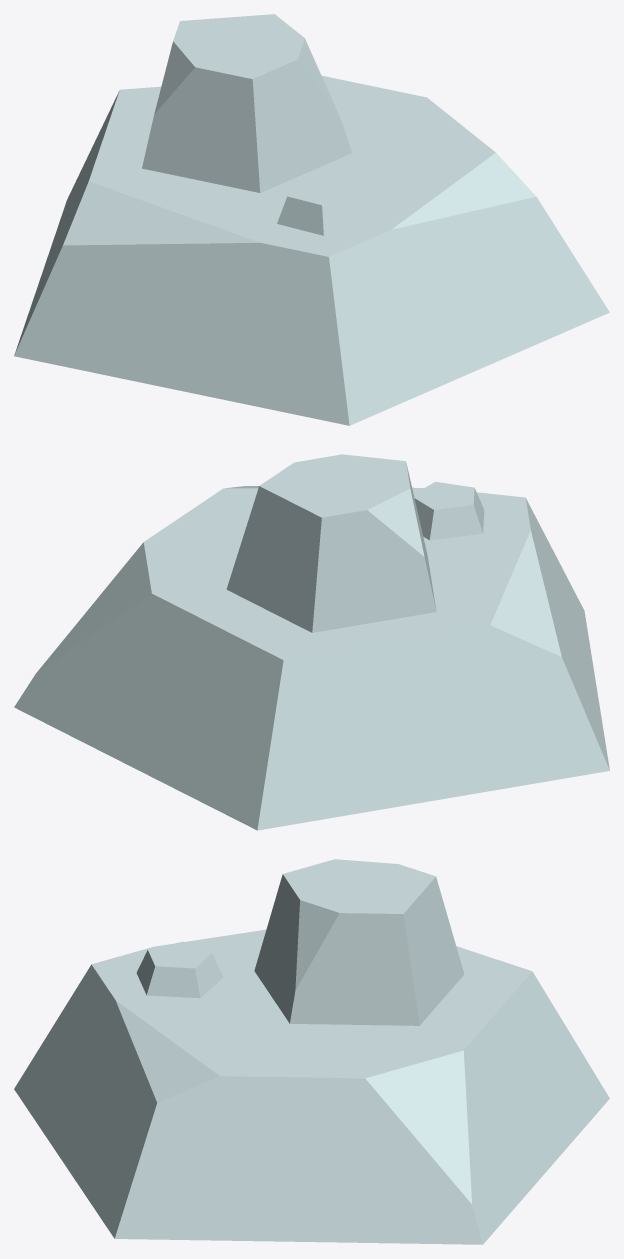
The model's file is stone_smallTop2.glb.
3 views of the same model, one above another, from view 1: azimuth 30°, elevation 25°; view 2: azimuth 150°, elevation 25°; view 3: azimuth 270°, elevation 25° (orthographic). The views are drawn at different scales.
Visible parts, largest first — view 1: stone_smallTop2; view 2: stone_smallTop2; view 3: stone_smallTop2.
Boxes of the visible parts, box(x1,y1,x2,y2) form: stone_smallTop2: box(14, 14, 609, 425); stone_smallTop2: box(14, 454, 609, 830); stone_smallTop2: box(14, 859, 609, 1244).
Bounding box in the file's own units: 0.6221 × 0.28 × 0.6463.
